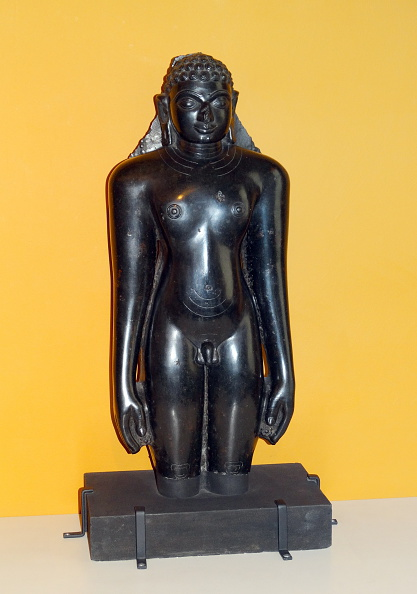em pe: (97, 50, 312, 308)
